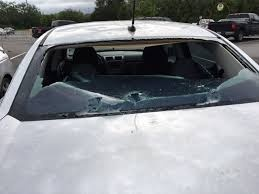Broken-glass: (36, 43, 259, 115)
Dent: (100, 113, 157, 134)
